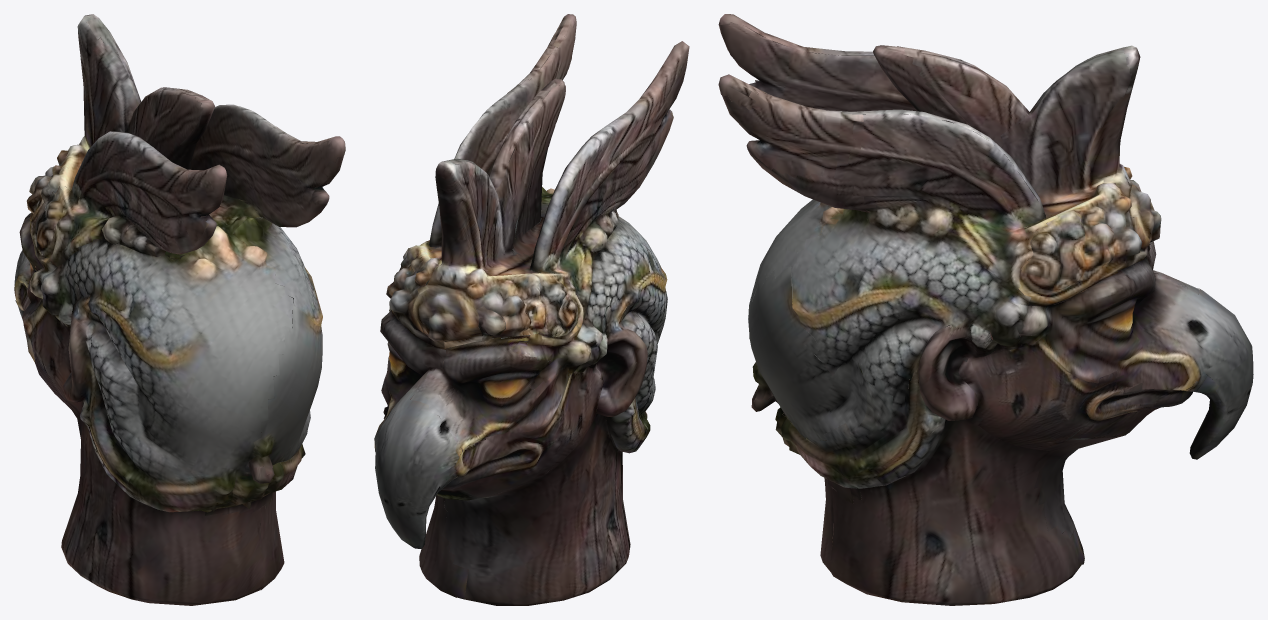
File: kapal-majapahit.glb
3 views of the same model, side by side, from view 1: azimuth 30°, elevation 25°; view 2: azimuth 150°, elevation 25°; view 3: azimuth 270°, elevation 25° (orthographic). The views are drawn at different scales.
Parts seen in each view (by area): view 1: kapal-majapahit; view 2: kapal-majapahit; view 3: kapal-majapahit.
Part boxes in pixels (x1=…): kapal-majapahit: x1=14, y1=14, x2=345, y2=605; kapal-majapahit: x1=374, y1=14, x2=689, y2=605; kapal-majapahit: x1=718, y1=14, x2=1253, y2=605.
Size of the model in its own units: 0.497 by 0.9998 by 0.9399.
1 material, 1 textured.
